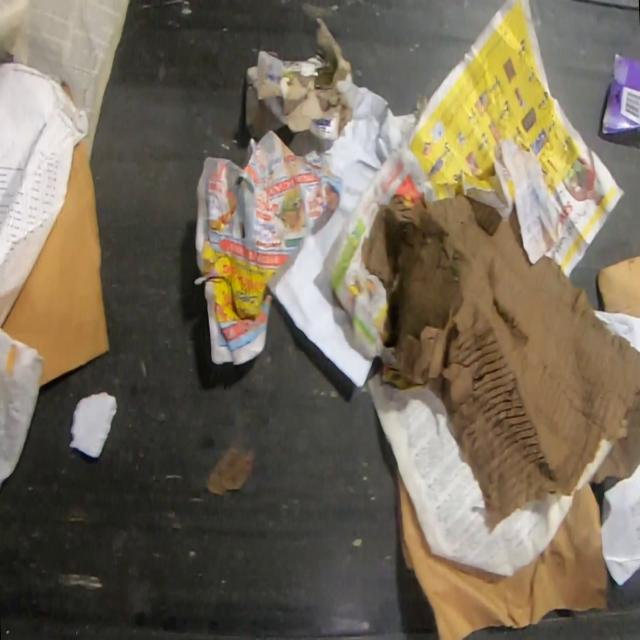cardboard: (362, 191, 640, 530), (396, 460, 608, 639), (2, 138, 111, 390), (600, 55, 640, 136), (596, 256, 640, 318)
